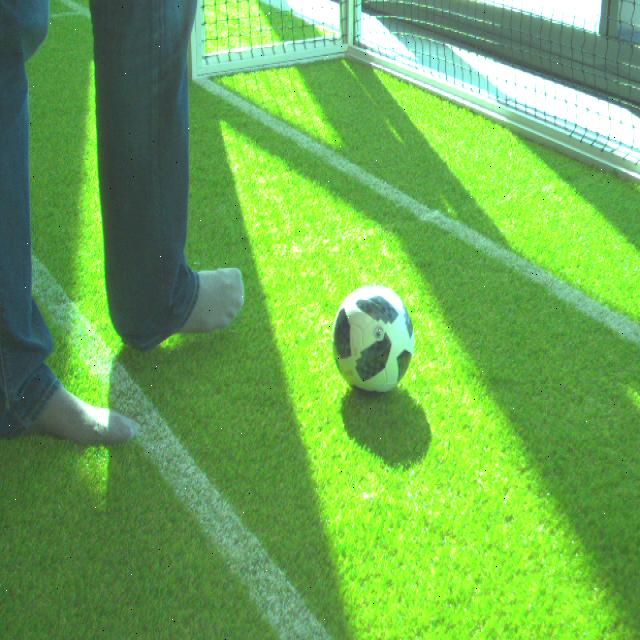ball: (330, 284, 414, 393)
goalpost: (187, 2, 203, 82)
